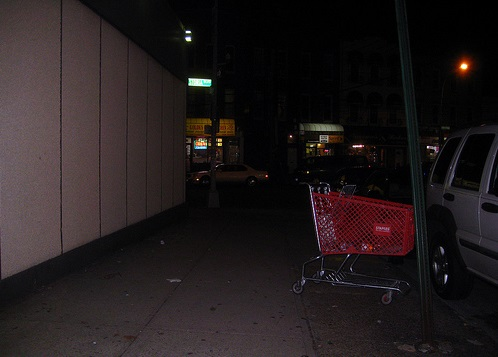car: (186, 160, 271, 189)
